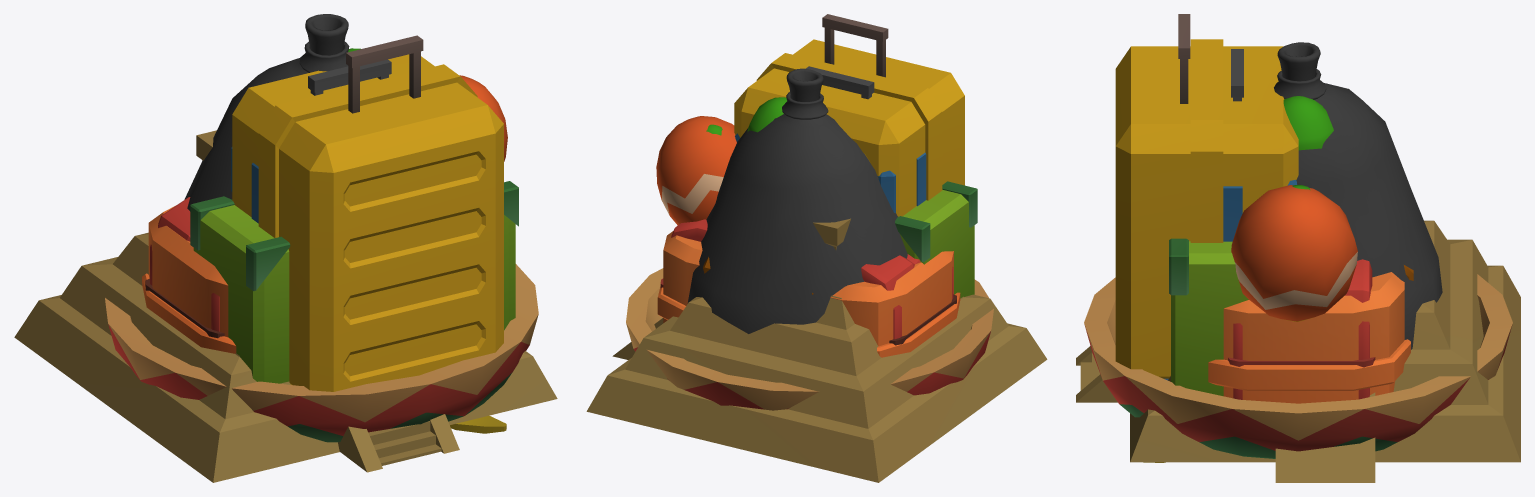
Rendered from assetts_mexico.fbx.
3 renders of one model, left to right at view 1: azimuth 30°, elevation 25°; view 2: azimuth 150°, elevation 25°; view 3: azimuth 270°, elevation 25°, orthographic. The views are drawn at different scales.
Visible parts, largest first — view 1: yellowmodern_baggage_v1, ElCastillo_collection_v1, Sombrero_collection_v1, green_old_baggage_v1, old_baggage_v1, trash_v1, blue_modern_baggage_v1, red_baggage_v1, banana_v1, marakas_collection_v1; view 2: ElCastillo_collection_v1, trash_v1, yellowmodern_baggage_v1, old_baggage_v1, Sombrero_collection_v1, marakas_collection_v1, green_old_baggage_v1, red_baggage_v1, blue_modern_baggage_v1, kaktus_collection_v1; view 3: yellowmodern_baggage_v1, ElCastillo_collection_v1, Sombrero_collection_v1, trash_v1, old_baggage_v1, marakas_collection_v1, green_old_baggage_v1, red_baggage_v1, kaktus_collection_v1, blue_modern_baggage_v1.
Part boxes in pixels (box(x1,y1,x2,y2)): yellowmodern_baggage_v1: box(232, 35, 503, 391); ElCastillo_collection_v1: box(14, 130, 557, 482); Sombrero_collection_v1: box(105, 264, 538, 442); green_old_baggage_v1: box(190, 181, 518, 383); old_baggage_v1: box(142, 206, 236, 353); trash_v1: box(184, 14, 349, 211); blue_modern_baggage_v1: box(231, 59, 391, 223); red_baggage_v1: box(145, 197, 224, 338); banana_v1: box(450, 415, 506, 433); marakas_collection_v1: box(459, 75, 507, 161); ElCastillo_collection_v1: box(586, 218, 1047, 482); trash_v1: box(687, 68, 907, 333); yellowmodern_baggage_v1: box(734, 14, 964, 216); old_baggage_v1: box(657, 231, 960, 357); Sombrero_collection_v1: box(626, 268, 993, 410); marakas_collection_v1: box(656, 116, 736, 225); green_old_baggage_v1: box(895, 181, 977, 298); red_baggage_v1: box(660, 219, 956, 345); blue_modern_baggage_v1: box(735, 66, 926, 213); kaktus_collection_v1: box(706, 97, 786, 135); yellowmodern_baggage_v1: box(1115, 14, 1298, 378); ElCastillo_collection_v1: box(1076, 220, 1520, 482); Sombrero_collection_v1: box(1084, 274, 1512, 458); trash_v1: box(1274, 42, 1442, 349); old_baggage_v1: box(1208, 265, 1413, 403); marakas_collection_v1: box(1231, 185, 1357, 322); green_old_baggage_v1: box(1169, 238, 1248, 396); red_baggage_v1: box(1228, 259, 1375, 399); kaktus_collection_v1: box(1283, 96, 1333, 190); blue_modern_baggage_v1: box(1164, 49, 1297, 380).
Size of the model in its own units: 123 by 119 by 124.
1 material, 1 textured.
